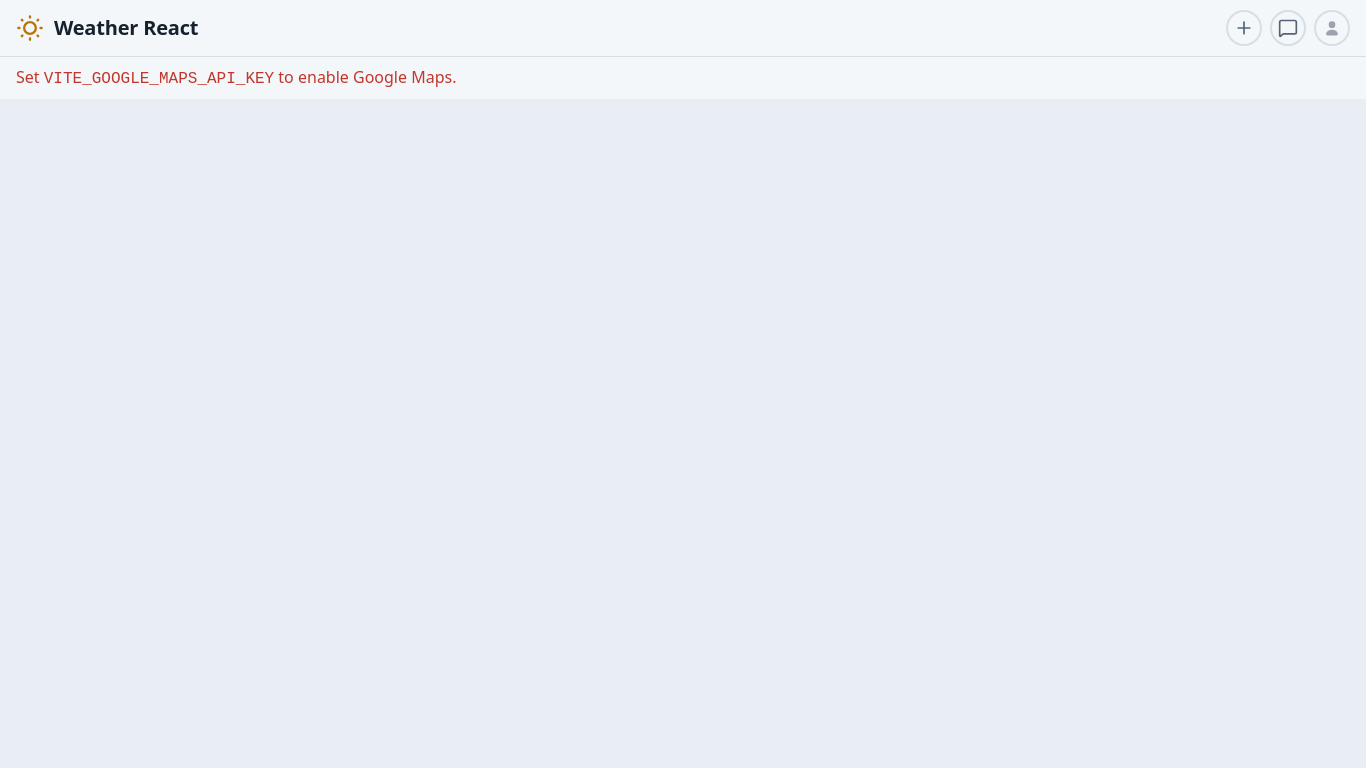
Scenario: AC2: the panel is a complementary region named Chat5a with a Chat5a heading
This screenshot has width=1366, height=768.
Click the button named "Open chat" at (1288, 28), box [1270,10,1306,46]
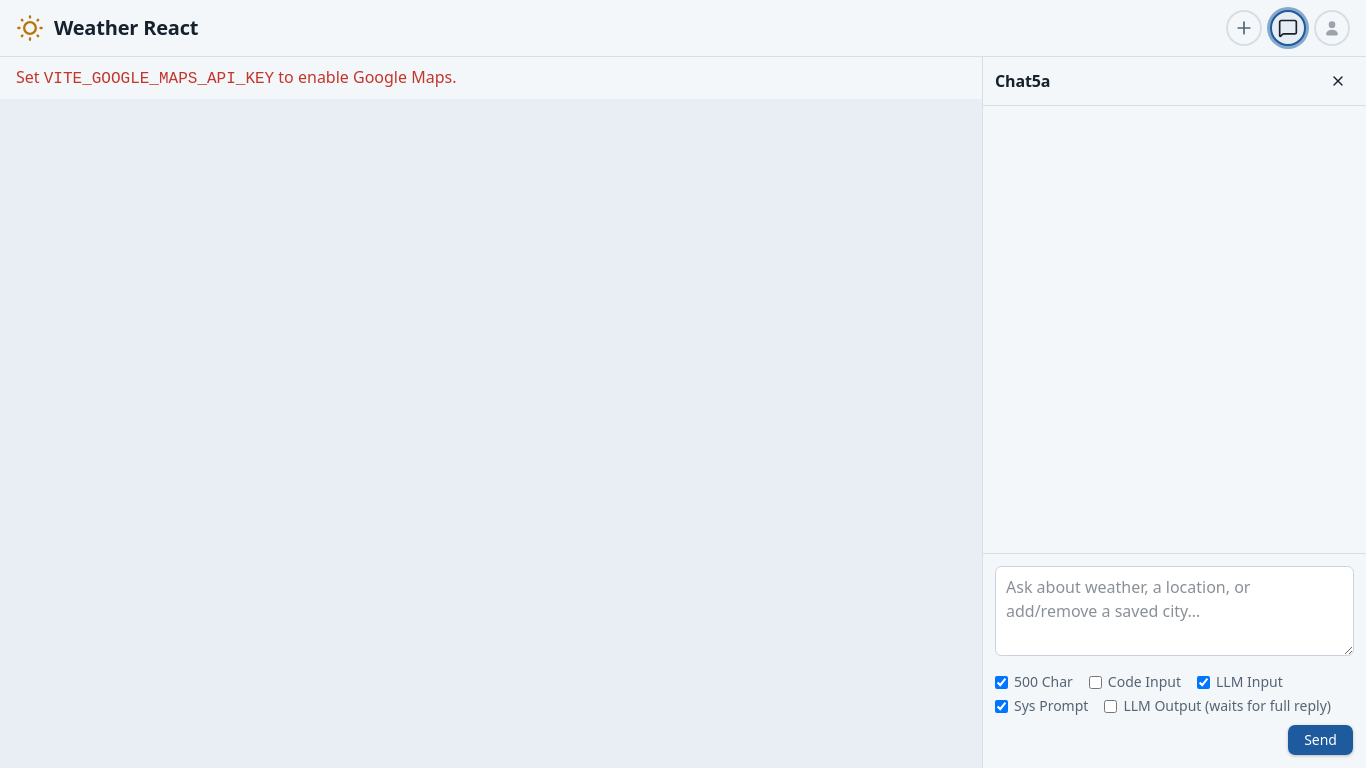
Now the element "Chat5a" is shown, box [982,57,1365,767]
Now the heading "Chat5a" is shown, box [995,69,1050,93]
Now the text box with id "chat5a-sidebar-input" is shown, box [995,566,1354,656]
